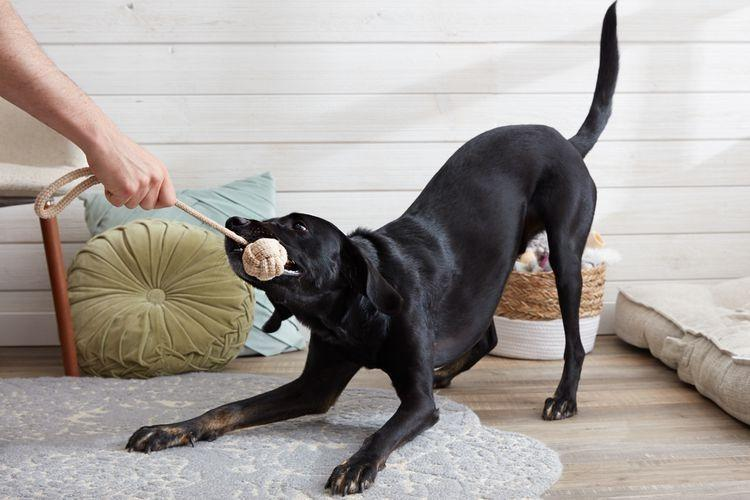adult_dog: (127, 1, 620, 494)
non-dog: (0, 1, 178, 209)
